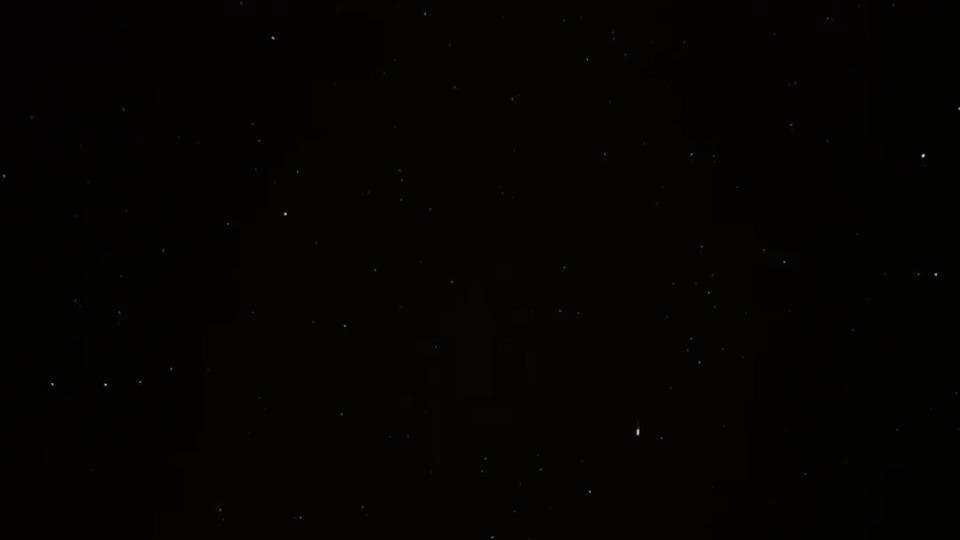meteorite: (606, 413, 665, 442)
